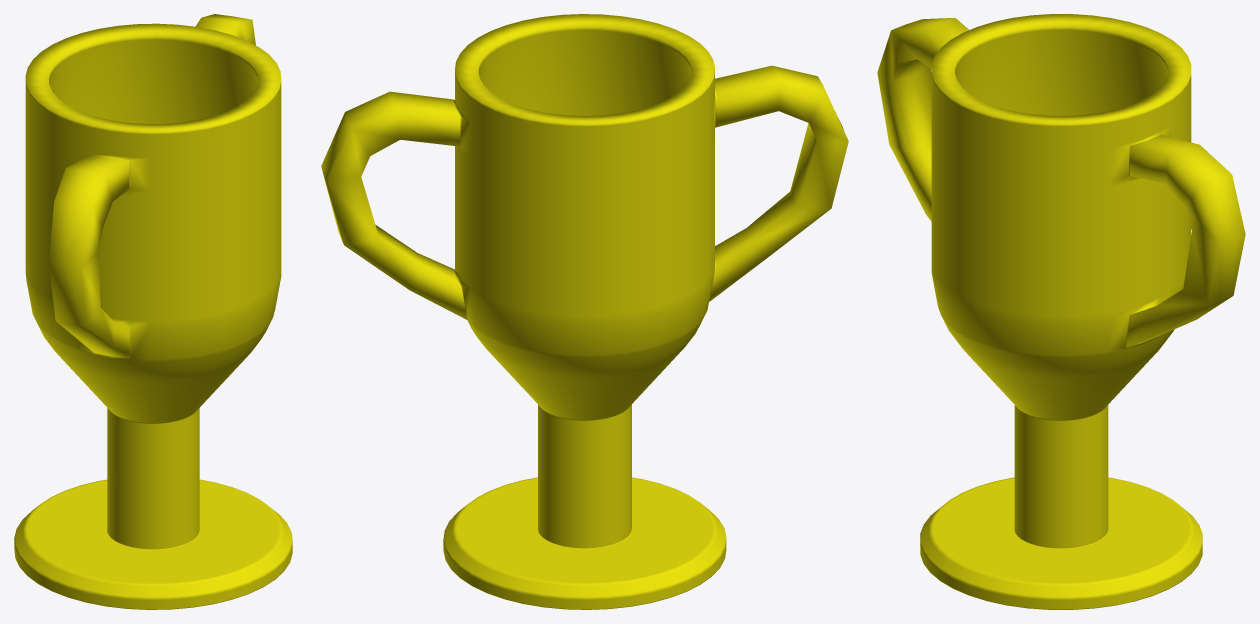
File: Gold trophy_2.fbx
3 renders of one model, left to right at view 1: azimuth 30°, elevation 25°; view 2: azimuth 150°, elevation 25°; view 3: azimuth 270°, elevation 25°, orthographic.
Visible parts, largest first — view 1: Gold trophy_02; view 2: Gold trophy_02; view 3: Gold trophy_02.
Boxes of the visible parts, x1=… form: Gold trophy_02: x1=14, y1=14, x2=292, y2=609; Gold trophy_02: x1=321, y1=14, x2=848, y2=609; Gold trophy_02: x1=877, y1=14, x2=1245, y2=609.
Size of the model in its own units: 40.4 by 50.18 by 34.8.
